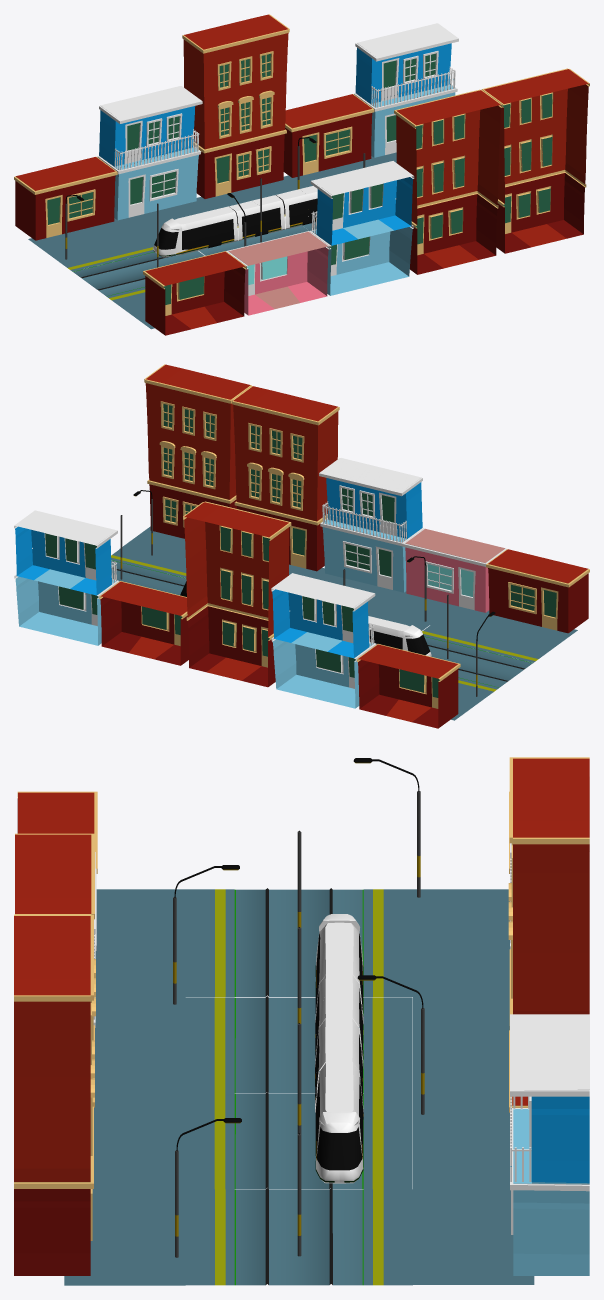
File: Tranvia2.fbx
3 views of the same model, one above another, from view 1: azimuth 30°, elevation 25°; view 2: azimuth 150°, elevation 25°; view 3: azimuth 270°, elevation 25° (orthographic). The views are drawn at different scales.
Visible parts, largest first — view 1: edifio032, edifio038, edifio035, edifio041, edifio034, edifio040, edifio037, edifio033, carretera 018, edifio036, edifio039, Box033 (+2 smaller); view 2: edifio032, edifio038, edifio035, edifio034, edifio040, edifio041, carretera 018, edifio033, edifio037, edifio039, edifio036, Riel 006 (+2 smaller); view 3: carretera 018, Riel 005, edifio035, Riel 007, edifio032, edifio040, Riel 006, Box033, edifio038, edifio037, farola017, farola019 (+2 smaller).
Part boxes in pixels (x1,y1,x2,y2): edifio032: [182, 14, 289, 198]; edifio038: [394, 89, 502, 274]; edifio035: [481, 68, 589, 253]; edifio041: [309, 161, 414, 295]; edifio034: [97, 86, 202, 220]; edifio040: [354, 23, 458, 157]; edifio037: [143, 251, 246, 335]; edifio033: [14, 156, 117, 240]; carretera 018: [28, 152, 396, 329]; edifio036: [226, 231, 329, 315]; edifio039: [283, 94, 374, 177]; Box033: [153, 186, 317, 257]; edifio032: [183, 501, 291, 687]; edifio038: [232, 386, 339, 571]; edifio035: [144, 364, 251, 538]; edifio034: [271, 573, 376, 708]; edifio040: [14, 510, 119, 645]; edifio041: [319, 458, 423, 592]; carretera 018: [119, 526, 577, 720]; edifio033: [357, 644, 460, 728]; edifio037: [486, 549, 589, 633]; edifio039: [99, 581, 188, 665]; edifio036: [403, 528, 506, 612]; Riel 006: [422, 625, 545, 697]; carretera 018: [64, 889, 534, 1285]; Riel 005: [185, 996, 412, 1189]; edifio035: [14, 914, 94, 1275]; Riel 007: [185, 1188, 412, 1285]; edifio032: [508, 757, 589, 1029]; edifio040: [510, 1014, 589, 1275]; Riel 006: [185, 888, 412, 996]; Box033: [315, 914, 363, 1183]; edifio038: [15, 833, 95, 1107]; edifio037: [17, 791, 97, 873]; farola017: [353, 758, 420, 897]; farola019: [357, 975, 424, 1114].
Size of the model in its own units: 1271 by 434 by 781.
